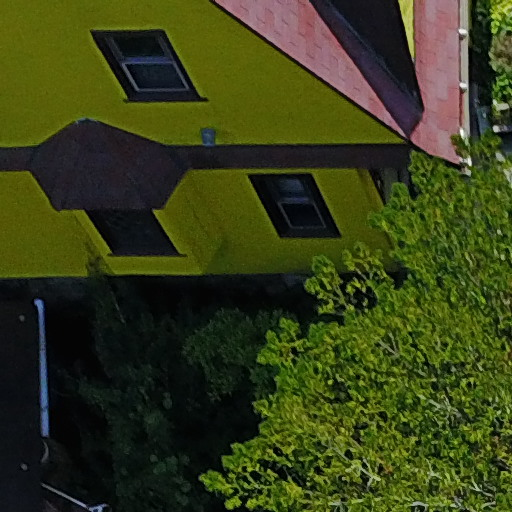gutter: (28, 295, 67, 464)
